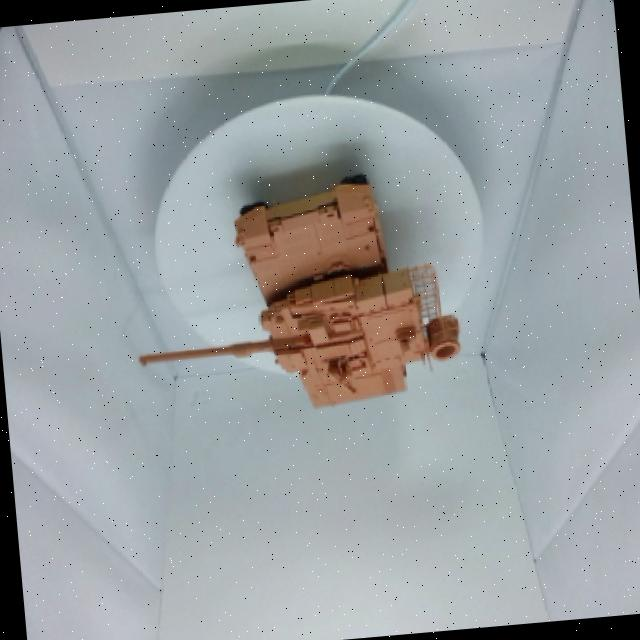korea tank: (98, 138, 500, 466)
